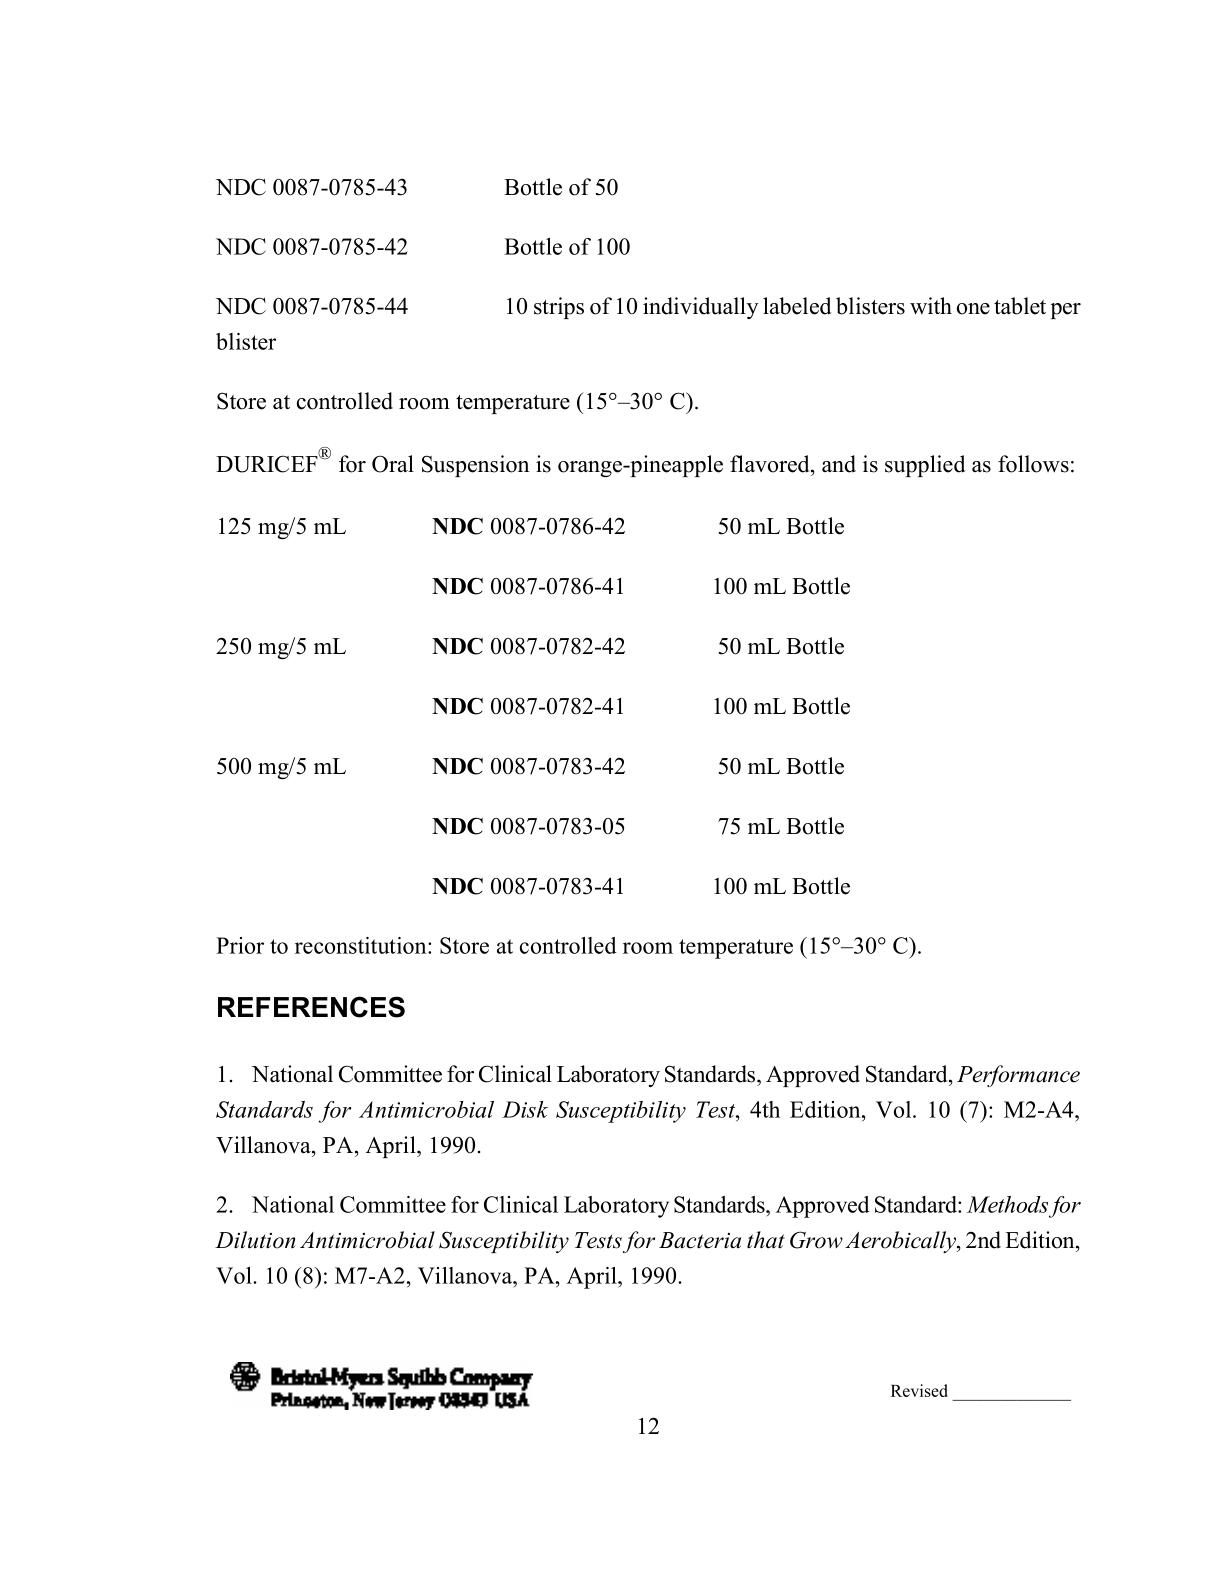nolines: (213, 510, 854, 901), (215, 172, 1083, 352)
